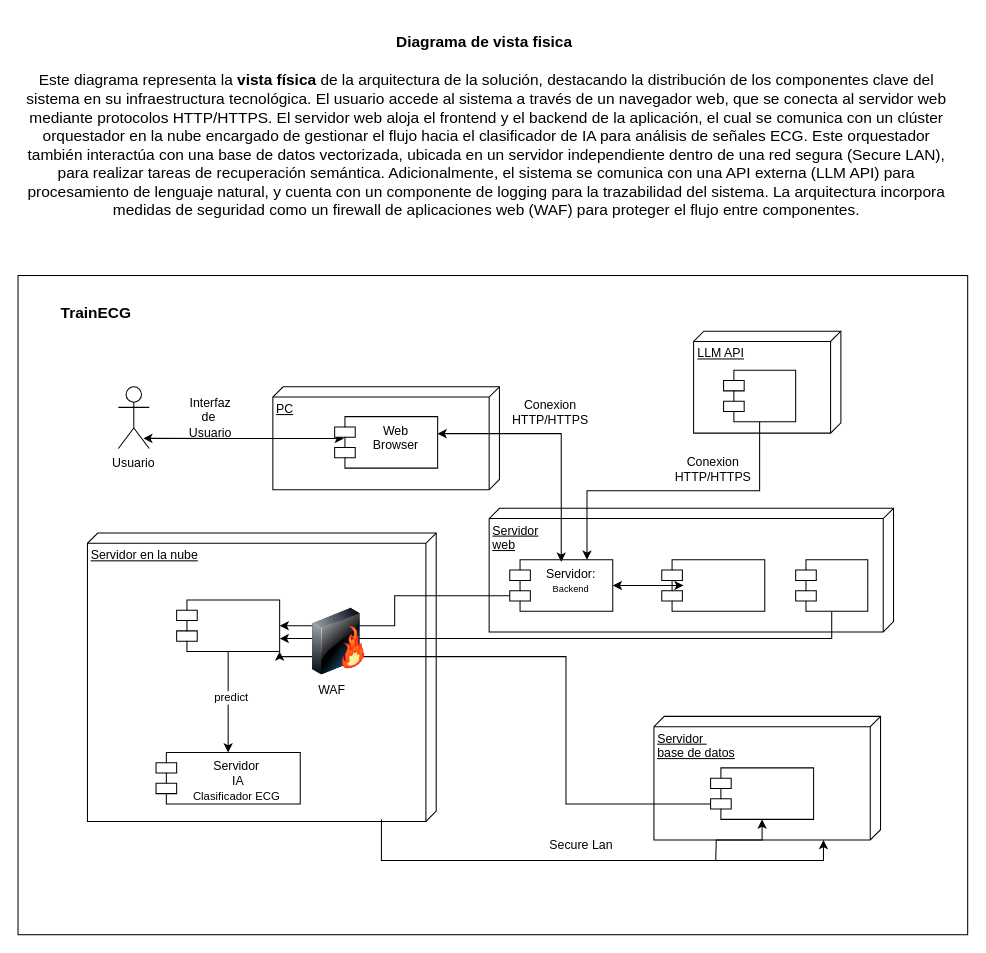
This 986x953 diagram has some shape labels left out. The shapes that lost their labels are listed below. From the top down, each one's centre as x and y in pixels, then its label:
At point 759,395: "API Gateway".
At point 713,585: "Servidor: Frontend".
At point 831,585: "log".
At point 228,625: "Cluster Orquestador".
At point 762,793: "Base de datos vectorizada".
